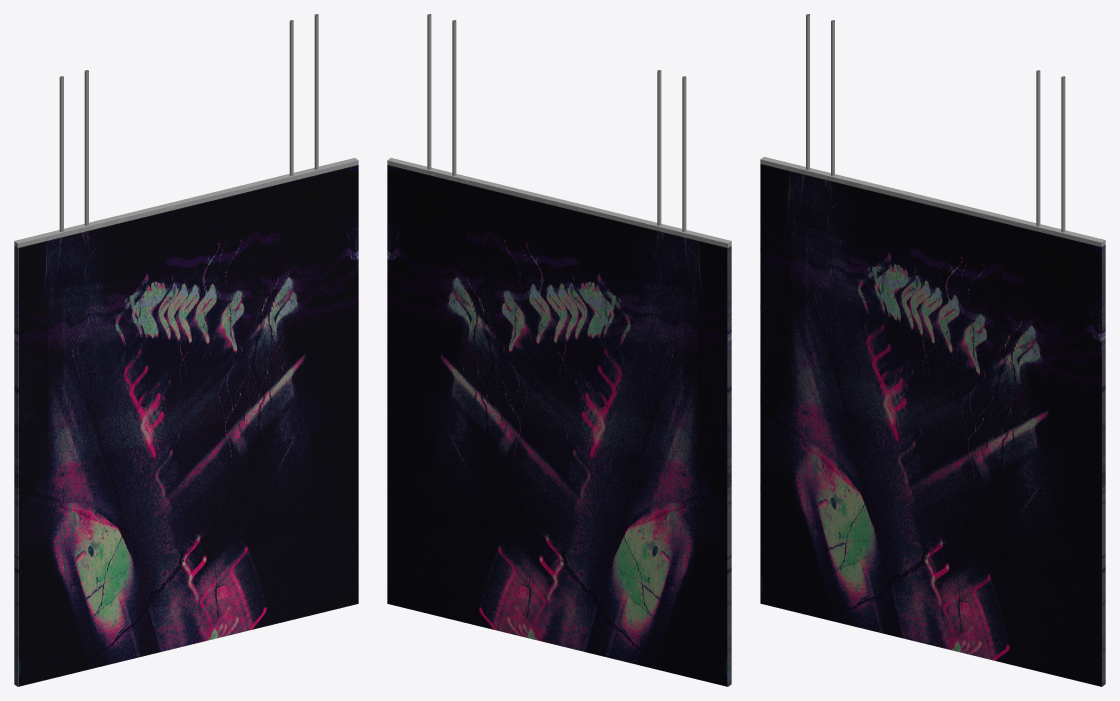
Rendered from Picture1.fbx.
The picture shows the model from 3 angles, left to right: view 1: azimuth 30°, elevation 25°; view 2: azimuth 150°, elevation 25°; view 3: azimuth 330°, elevation 25°; orthographic projection.
Visible parts, largest first — view 1: Empty_Mesh; view 2: Empty_Mesh; view 3: Empty_Mesh.
Boxes of the visible parts, left/top/right/bottom form: Empty_Mesh: left=14, top=14, right=358, bottom=686; Empty_Mesh: left=387, top=14, right=731, bottom=686; Empty_Mesh: left=760, top=14, right=1105, bottom=686.
Size of the model in its own units: 194 by 324 by 3.64.
